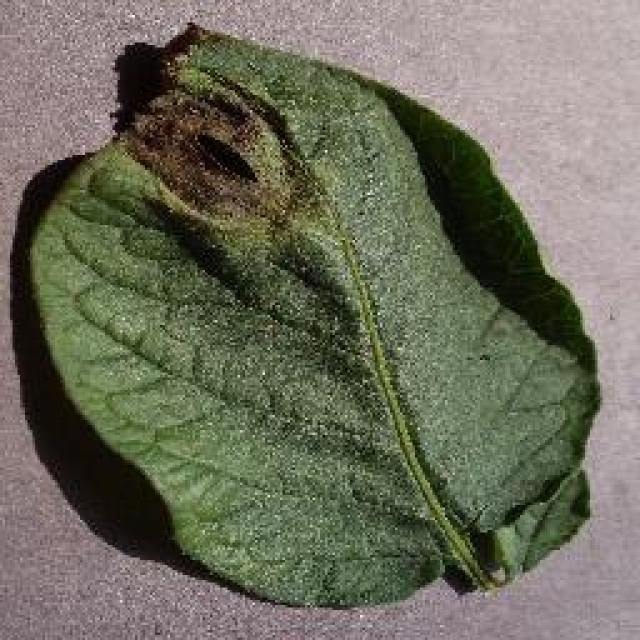late_blight: (15, 18, 605, 612)
